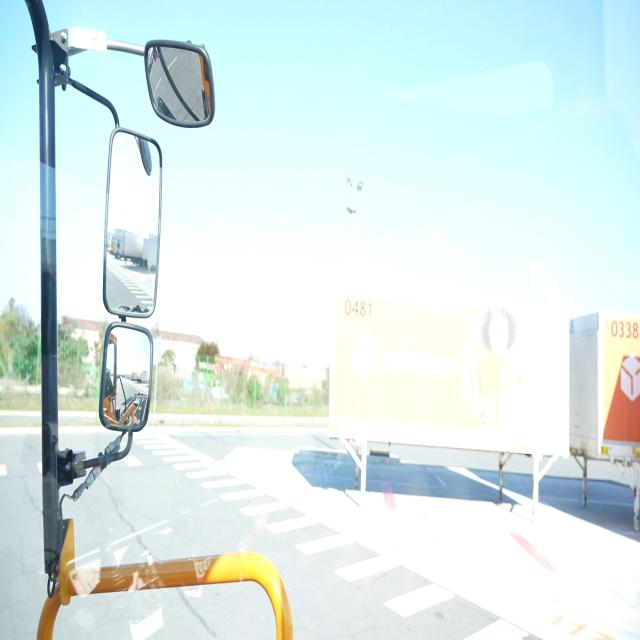Code: (342, 294, 377, 322), (607, 316, 639, 342)
